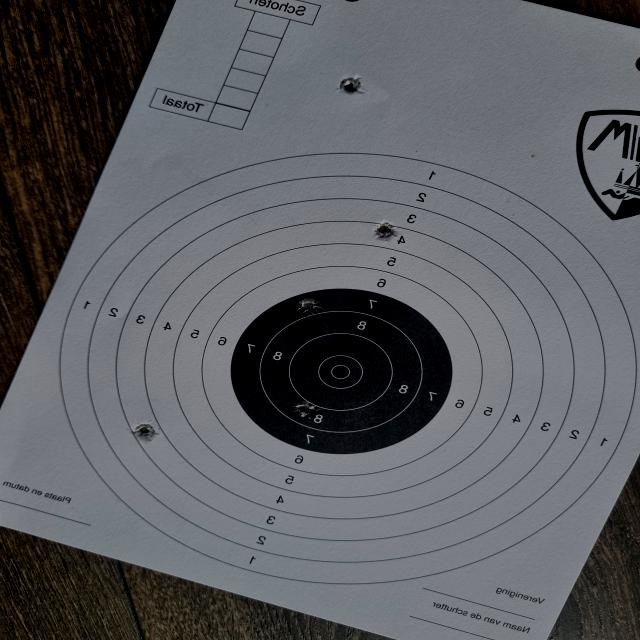0: (335, 75, 363, 97)
3: (131, 422, 159, 444)
4: (371, 221, 398, 241)
8: (294, 298, 322, 319), (292, 402, 321, 419)
Target: (60, 152, 640, 586)
black_contour: (230, 289, 452, 456)
